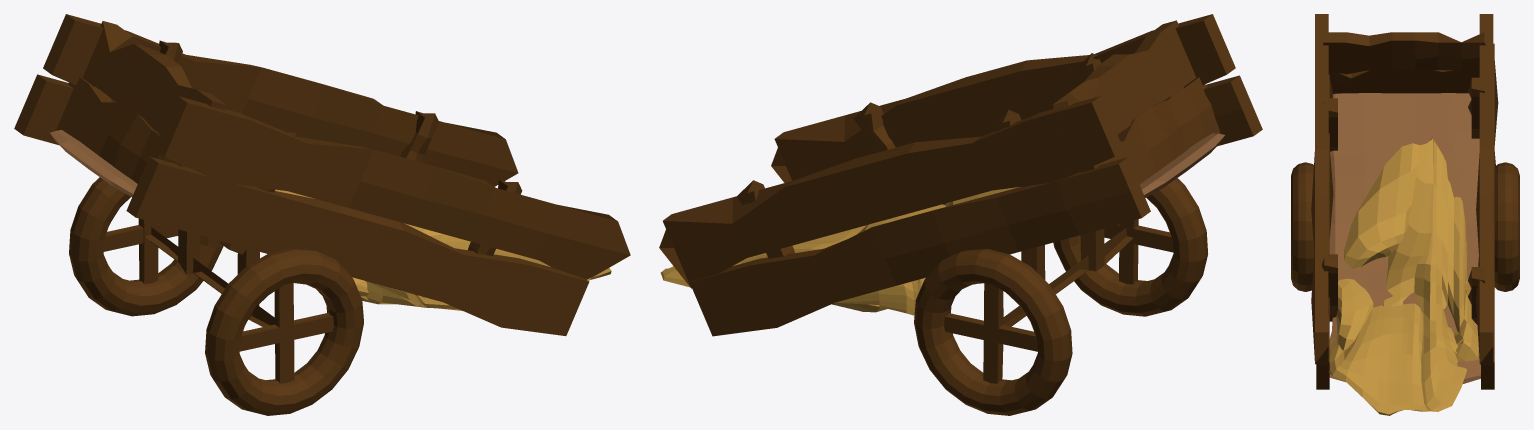
Rendered from WOODEN_cart.fbx.
3 renders of one model, left to right at view 1: azimuth 30°, elevation 25°; view 2: azimuth 150°, elevation 25°; view 3: azimuth 270°, elevation 25°, orthographic. The views are drawn at different scales.
Parts seen in each view (by area): view 1: Torus.001, Cube.001, Cube.004; view 2: Torus.001, Cube.001, Cube.004; view 3: Torus.001, Cube.001, Cube.004.
Part boxes in pixels (bbox=[...]): Torus.001: bbox=[14, 14, 630, 415]; Cube.001: bbox=[275, 189, 611, 310]; Cube.004: bbox=[50, 130, 137, 196]; Torus.001: bbox=[659, 14, 1262, 415]; Cube.001: bbox=[660, 187, 1019, 315]; Cube.004: bbox=[1140, 133, 1224, 197]; Torus.001: bbox=[1291, 14, 1519, 389]; Cube.001: bbox=[1328, 137, 1479, 415]; Cube.004: bbox=[1329, 93, 1480, 383].
Bounding box in the file's own units: 832 × 497 × 430.
